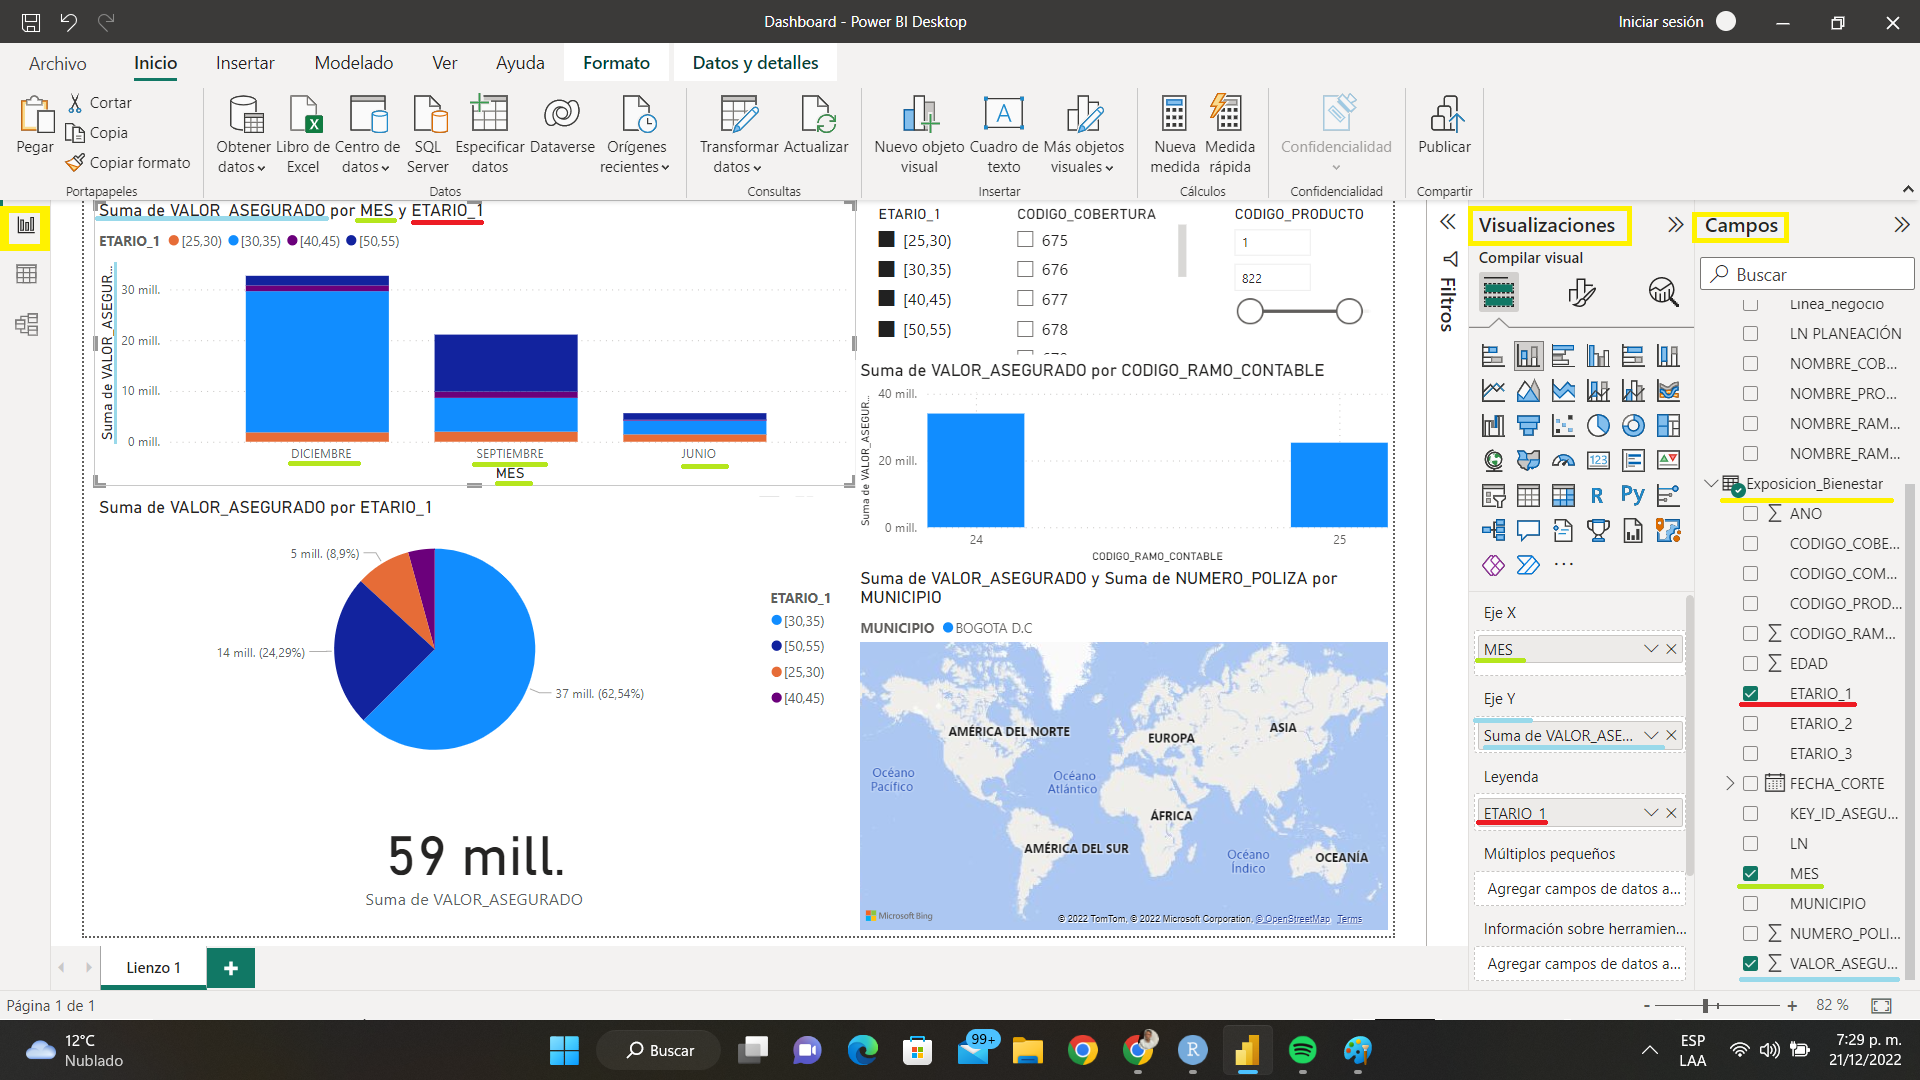

Layout of this report page (visuals, bound fields, positions):
{"tool":"powerbi","page":{"name":"Lienzo 1","canvas":[1280,720],"ordinal":0},"visuals":[{"type":"columnChart","fields":{"Y":["Sum(Exposicion_Bienestar.VALOR_ASEGURADO)"],"Category":["Exposicion_Bienestar.MES"],"Series":["Exposicion_Bienestar.ETARIO_1"]},"box":[9.6,0,744.4,280.2],"z":0},{"type":"pieChart","fields":{"Category":["Exposicion_Bienestar.ETARIO_1","Exposicion_Bienestar.ETARIO_2","Exposicion_Bienestar.ETARIO_3"],"Y":["Sum(Exposicion_Bienestar.VALOR_ASEGURADO)"]},"box":[0,279.9,754.2,279.9],"z":1000},{"type":"card","fields":{"Values":["Sum(Exposicion_Bienestar.VALOR_ASEGURADO)"]},"box":[0,559.9,754.2,160.1],"z":2000},{"type":"slicer","fields":{"Values":["Exposicion_Bienestar.ETARIO_1"]},"box":[764,0,135.7,156.5],"z":3000},{"type":"filledMap","fields":{"Series":["Exposicion_Bienestar.MUNICIPIO"]},"box":[754.2,359.4,525.6,360.6],"z":4000},{"type":"columnChart","fields":{"Y":["Sum(Exposicion_Bienestar.VALOR_ASEGURADO)"],"Category":["Exposicion_Bienestar.CODIGO_RAMO_CONTABLE"]},"box":[754,156.6,526,203.3],"z":5000},{"type":"slicer","fields":{"Values":["coberturas.CODIGO_PRODUCTO"]},"box":[1112.4,0,167.5,156.5],"z":6000},{"type":"slicer","fields":{"Values":["coberturas.CODIGO_COBERTURA"]},"box":[899.7,0,183.4,156.5],"z":7000}]}

Visuals, with their boxes on the page's 1280x720 design canvas (x1, y1, x2, y2). These are canvas units, not pixel positions in the 1920x1080 screenshot, which may show the page scaled, cropped or inside an application window:
columnChart - Sum(Exposicion_Bienestar.VALOR_ASEGURADO) x Exposicion_Bienestar.MES: 10/0/754/280
pieChart - Exposicion_Bienestar.ETARIO_1 x Exposicion_Bienestar.ETARIO_2: 0/280/754/560
card - Sum(Exposicion_Bienestar.VALOR_ASEGURADO): 0/560/754/720
slicer - Exposicion_Bienestar.ETARIO_1: 764/0/900/156
filledMap - Exposicion_Bienestar.MUNICIPIO: 754/359/1280/720
columnChart - Sum(Exposicion_Bienestar.VALOR_ASEGURADO) x Exposicion_Bienestar.CODIGO_RAMO_CONTABLE: 754/157/1280/360
slicer - coberturas.CODIGO_PRODUCTO: 1112/0/1280/156
slicer - coberturas.CODIGO_COBERTURA: 900/0/1083/156
